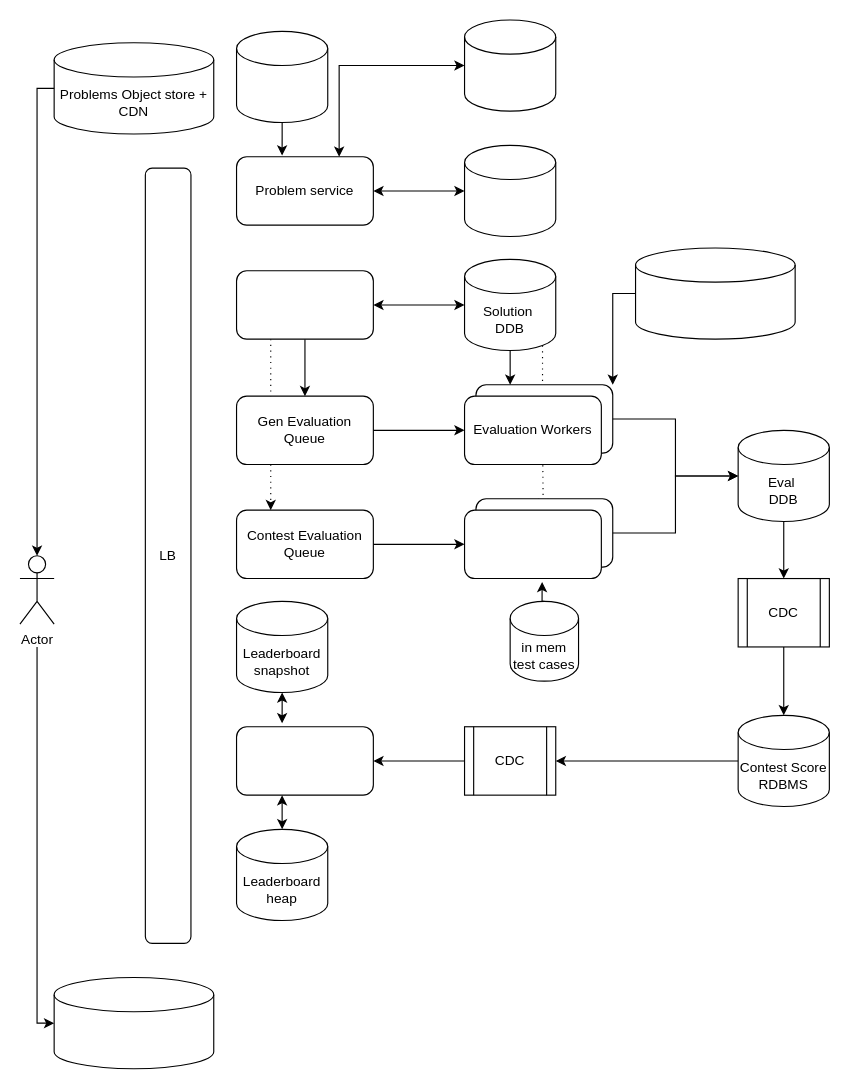
Image size: 849x1089. Some labels were removed from this diagram. The centre of each missing label's shape, as x and y in pixels:
"Contest Evaluation Workers" belongs at [532,544].
"Leaderboard service" belongs at [304,760].
"Problem cache" belongs at [509,65].
"Problem RDBMS" belongs at [509,190].
"Problem Search idx" belongs at [281,76].
"Solution service" belongs at [304,304].
"Solutions Object store" belongs at [133,1022].
"Test cases Object store" belongs at [714,293].
